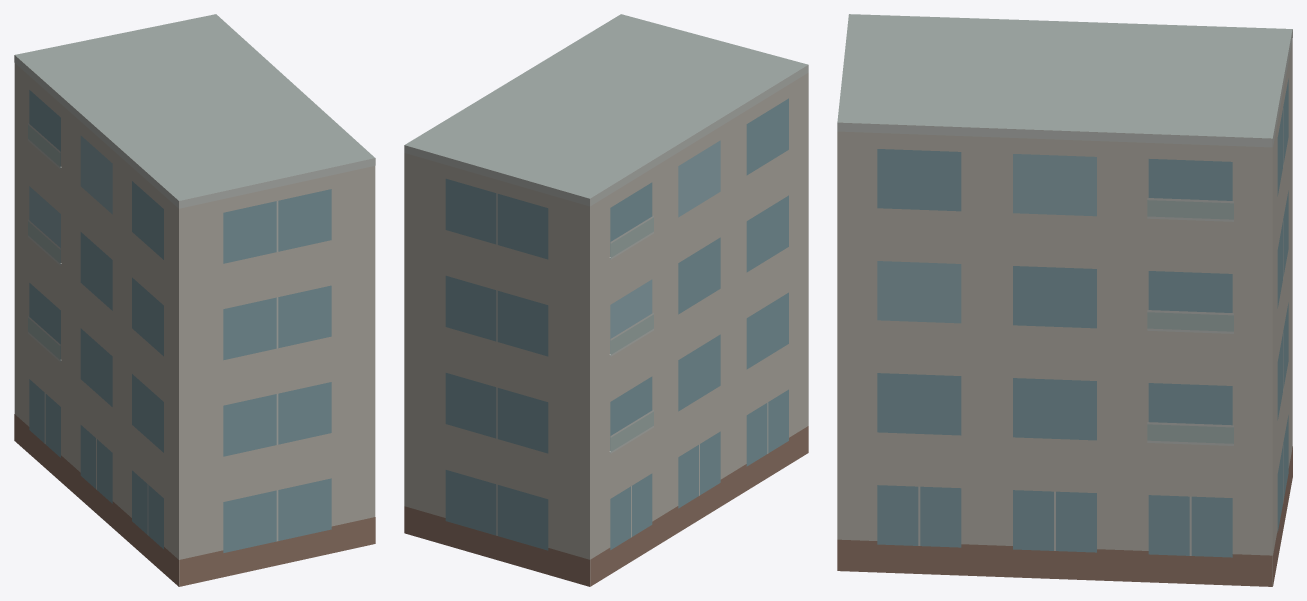
File: survey-upis-32755415.glb
The picture shows the model from 3 angles, left to right: view 1: azimuth 30°, elevation 25°; view 2: azimuth 150°, elevation 25°; view 3: azimuth 270°, elevation 25°; orthographic projection. The views are drawn at different scales.
Parts seen in each view (by area): view 1: survey-upis-32755415.tmp; view 2: survey-upis-32755415.tmp; view 3: survey-upis-32755415.tmp.
Boxes of the visible parts, x1,y1,x2,y2 form: survey-upis-32755415.tmp: (14,14,375,586); survey-upis-32755415.tmp: (404,14,808,586); survey-upis-32755415.tmp: (837,14,1292,586).
Size of the model in its own units: 7.28 by 12.2 by 11.24.
